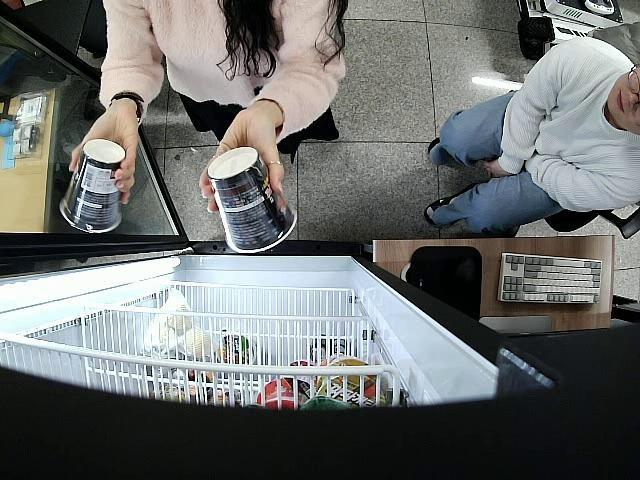08_buldak_S: (206, 148, 298, 253), (59, 139, 128, 235)
